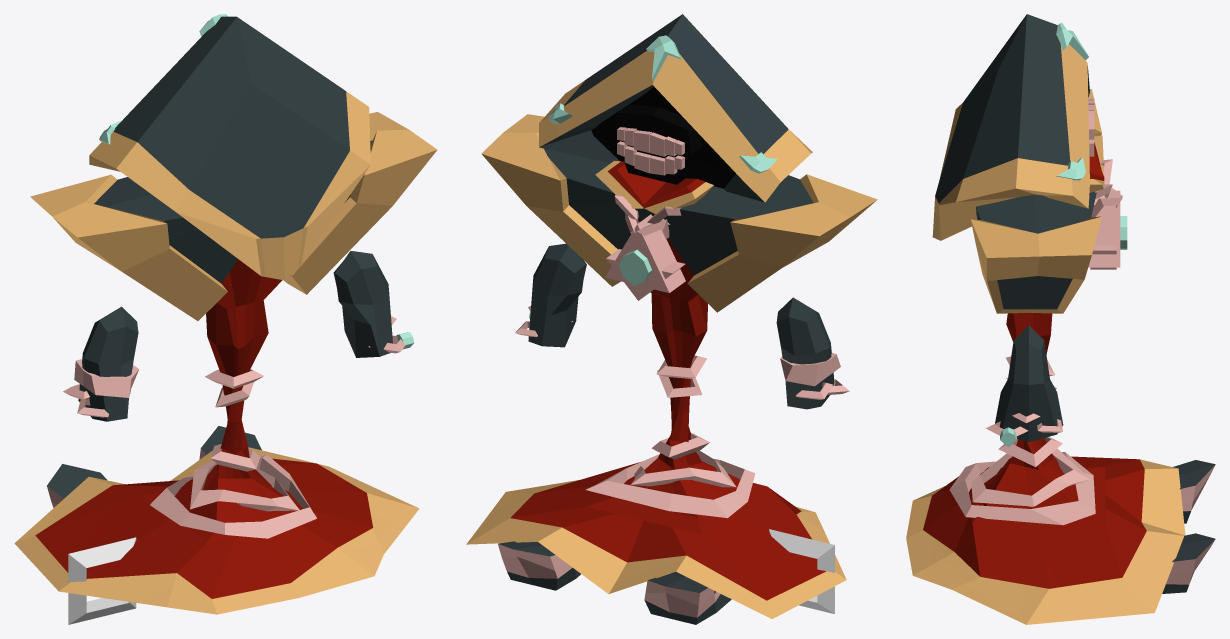
Rendered from wizzo02.fbx.
The picture shows the model from 3 angles, left to right: view 1: azimuth 30°, elevation 25°; view 2: azimuth 150°, elevation 25°; view 3: azimuth 270°, elevation 25°; orthographic projection. The views are drawn at different scales.
Visible parts, largest first — view 1: wizzo, wizzo.007, wizzo.009, chains base; view 2: wizzo, wizzo.009, wizzo.007, wizzo.008, chains base, wizzo.012; view 3: wizzo, wizzo.007, wizzo.009, wizzo.012.
Boxes of the visible parts, x1,y1,x2,y2 form: wizzo: (14,250,419,614); wizzo.007: (89,14,370,280); wizzo.009: (30,112,437,320); chains base: (68,537,136,624); wizzo: (466,160,849,624); wizzo.009: (481,114,877,312); wizzo.007: (539,14,812,202); wizzo.008: (617,127,684,175); chains base: (769,529,834,613); wizzo.012: (614,194,681,240); wizzo: (906,135,1215,624); wizzo.007: (932,14,1089,240); wizzo.009: (970,89,1101,313); wizzo.012: (1091,159,1122,217).
Bounding box in the file's own units: 246 × 371 × 186.
